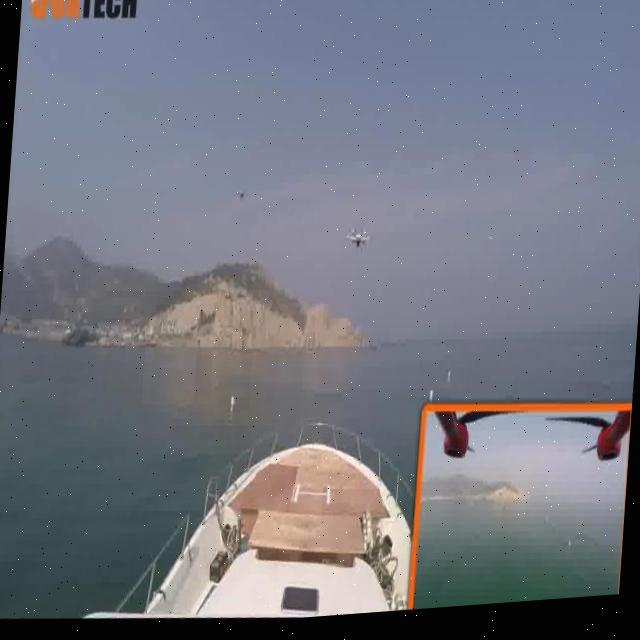drone: (341, 218, 374, 269)
